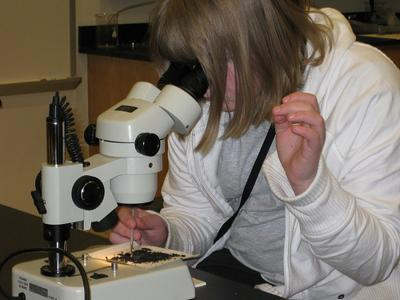person: (111, 2, 400, 299)
